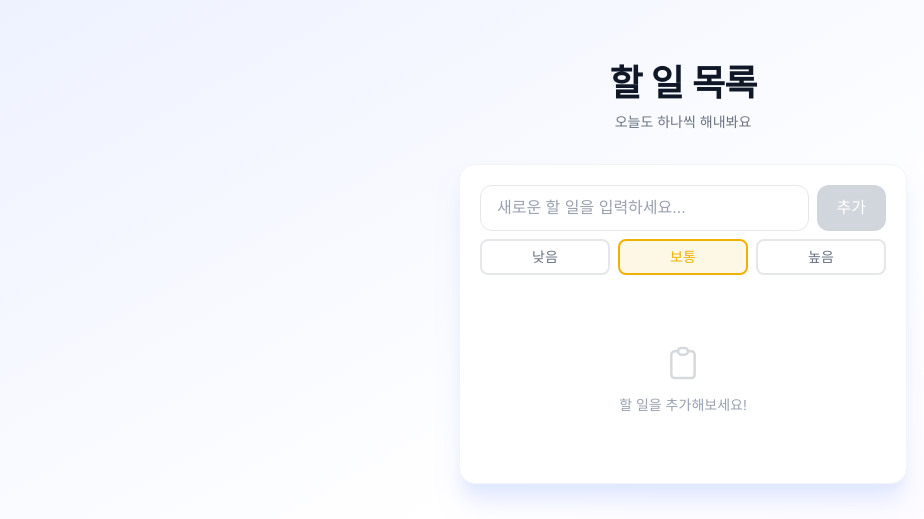
Test: Home (page.tsx) › 할 일 추가 › 할 일을 추가하면 목록에 표시된다
Type "운동하기" into the field with placeholder "새로운 할 일을 입력하세요..." at (644, 208), box x1=480 y1=185 x2=808 y2=231
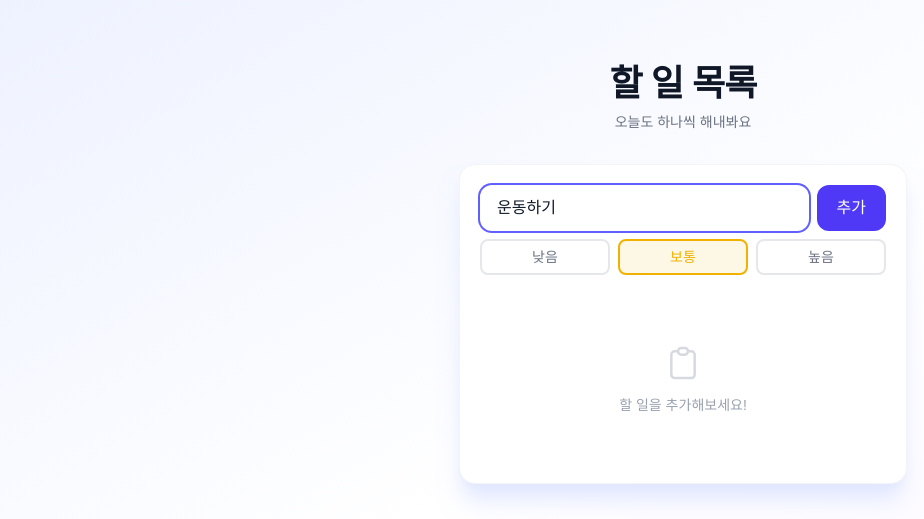
Click the button "추가" at (851, 208), box x1=816 y1=185 x2=886 y2=231
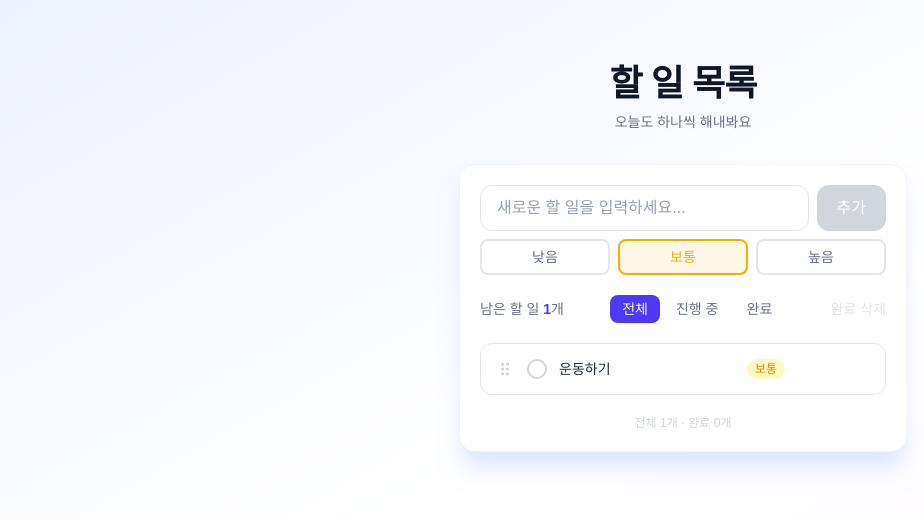
expect the text "운동하기" is shown: met, box x1=559 y1=361 x2=610 y2=377
